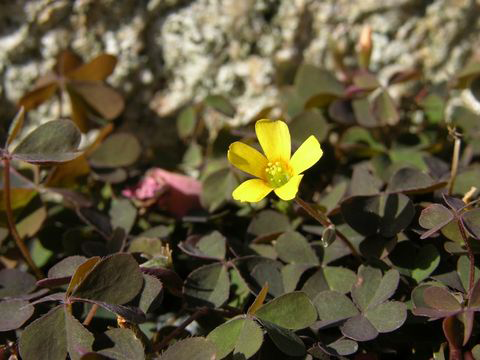oxalis: (276, 72, 480, 327), (1, 150, 245, 360), (147, 241, 475, 360)
